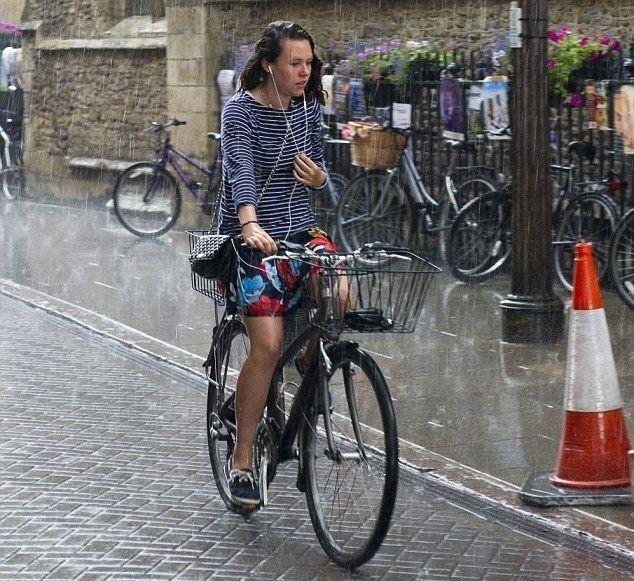bicycle: (193, 230, 421, 564), (335, 130, 493, 272), (114, 116, 218, 235)
